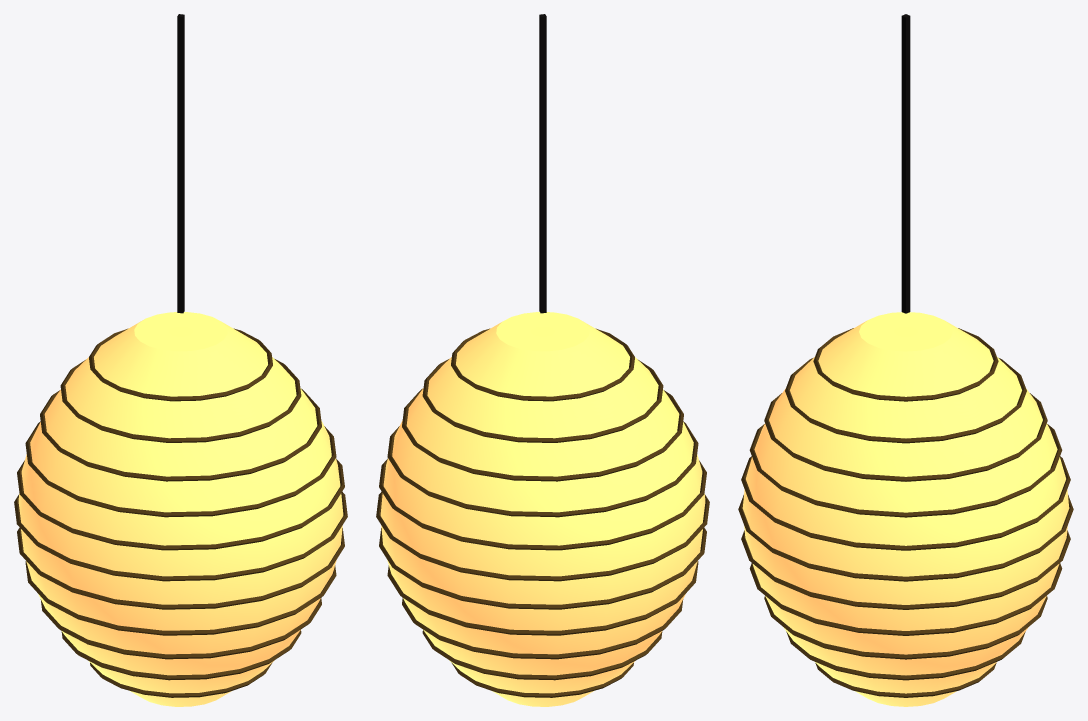
File: hz-paper-lantern.glb
The picture shows the model from 3 angles, left to right: view 1: azimuth 30°, elevation 25°; view 2: azimuth 150°, elevation 25°; view 3: azimuth 270°, elevation 25°; orthographic projection.
Visible parts, largest first — view 1: paper__lantern, ribs__bamboo; view 2: paper__lantern, ribs__bamboo; view 3: paper__lantern, ribs__bamboo.
Part boxes in pixels (x1=…): paper__lantern: x1=18, y1=312, x2=343, y2=706; ribs__bamboo: x1=14, y1=14, x2=347, y2=697; paper__lantern: x1=380, y1=312, x2=705, y2=706; ribs__bamboo: x1=376, y1=14, x2=709, y2=697; paper__lantern: x1=742, y1=312, x2=1069, y2=706; ribs__bamboo: x1=738, y1=14, x2=1073, y2=697.
Size of the model in its own units: 0.308 by 0.68 by 0.308.
